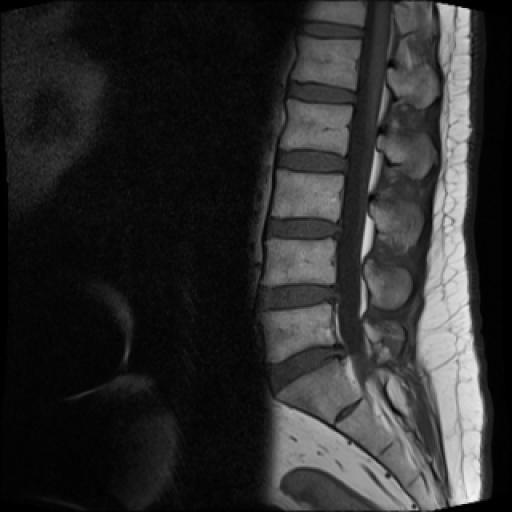L2: (280, 100, 352, 156), (292, 36, 360, 90)
L3: (272, 170, 342, 222)
L4: (262, 238, 337, 286)
L5: (263, 304, 335, 362)
S1: (277, 360, 361, 424)
